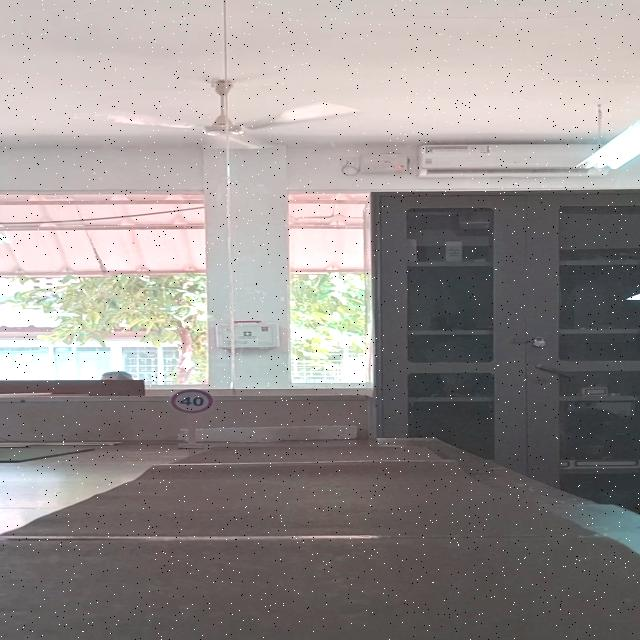Speed40: (169, 388, 215, 414)
